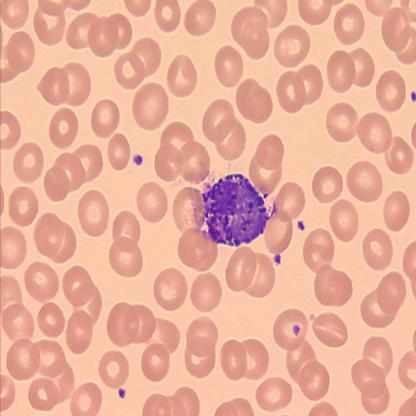Basophil: (201, 171, 271, 252)
